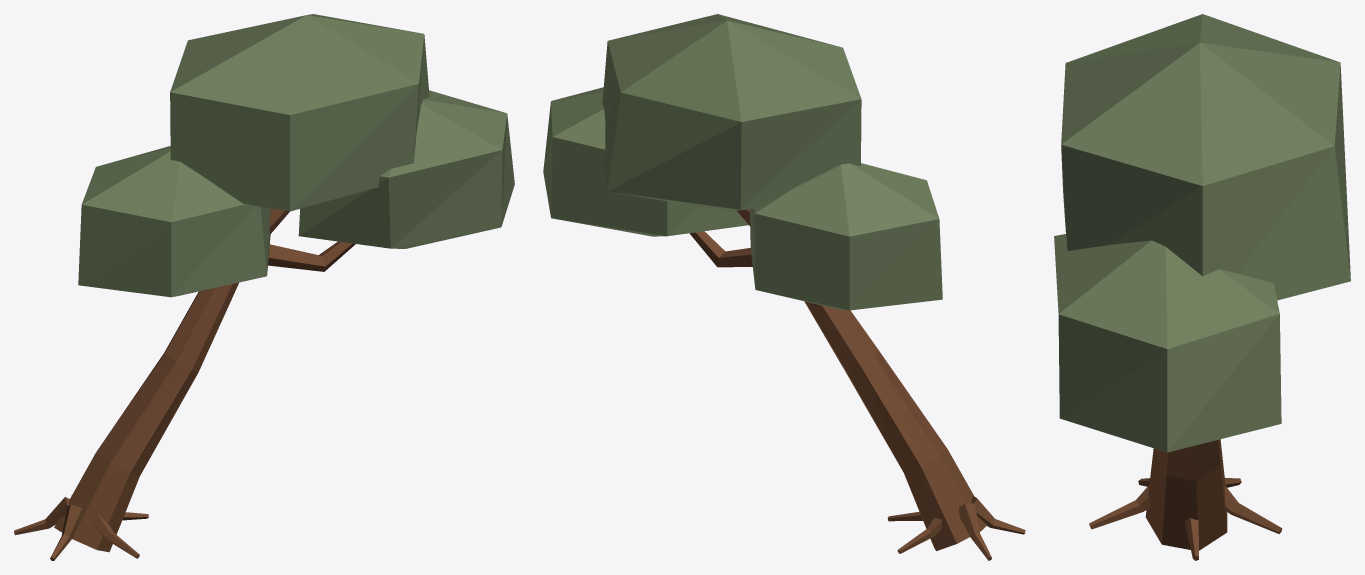
The model's file is Plant_Common_LeaningRiverTree_001_LOD1.glb.
The picture shows the model from 3 angles, left to right: view 1: azimuth 30°, elevation 25°; view 2: azimuth 150°, elevation 25°; view 3: azimuth 270°, elevation 25°; orthographic projection. The views are drawn at different scales.
Parts seen in each view (by area): view 1: Plant_Common_LeaningRiverTree_001_LOD1; view 2: Plant_Common_LeaningRiverTree_001_LOD1; view 3: Plant_Common_LeaningRiverTree_001_LOD1.
Part boxes in pixels (left/top/right/bottom): Plant_Common_LeaningRiverTree_001_LOD1: left=14, top=14, right=514, bottom=560; Plant_Common_LeaningRiverTree_001_LOD1: left=543, top=14, right=1025, bottom=560; Plant_Common_LeaningRiverTree_001_LOD1: left=1054, top=14, right=1350, bottom=560.
Bounding box in the file's own units: 5.25 × 5.05 × 2.11.
